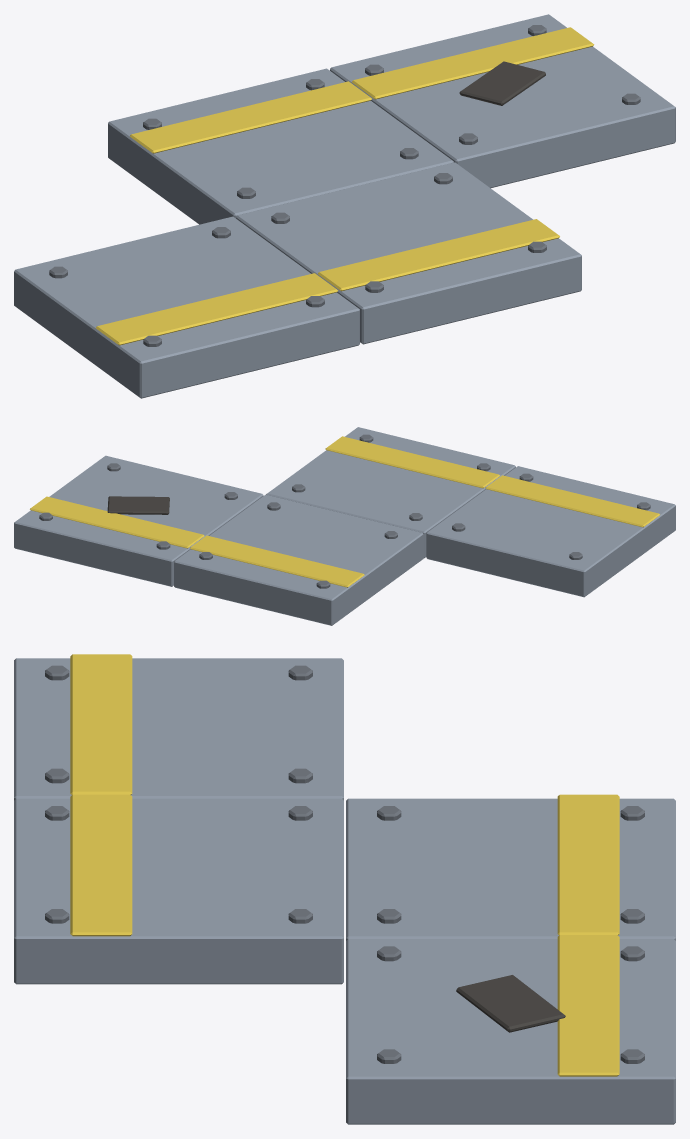
Rendered from hull_plating.glb.
The picture shows the model from 3 angles, top to bottom: view 1: azimuth 30°, elevation 25°; view 2: azimuth 150°, elevation 25°; view 3: azimuth 270°, elevation 25°; orthographic projection. The views are drawn at different scales.
Parts seen in each view (by area): view 1: hull_plating; view 2: hull_plating; view 3: hull_plating.
Part boxes in pixels (bbox=[...]): hull_plating: bbox=[14, 14, 675, 398]; hull_plating: bbox=[14, 427, 675, 625]; hull_plating: bbox=[14, 654, 675, 1124].
Size of the model in its own units: 0.449 by 0.0275 by 0.299.
